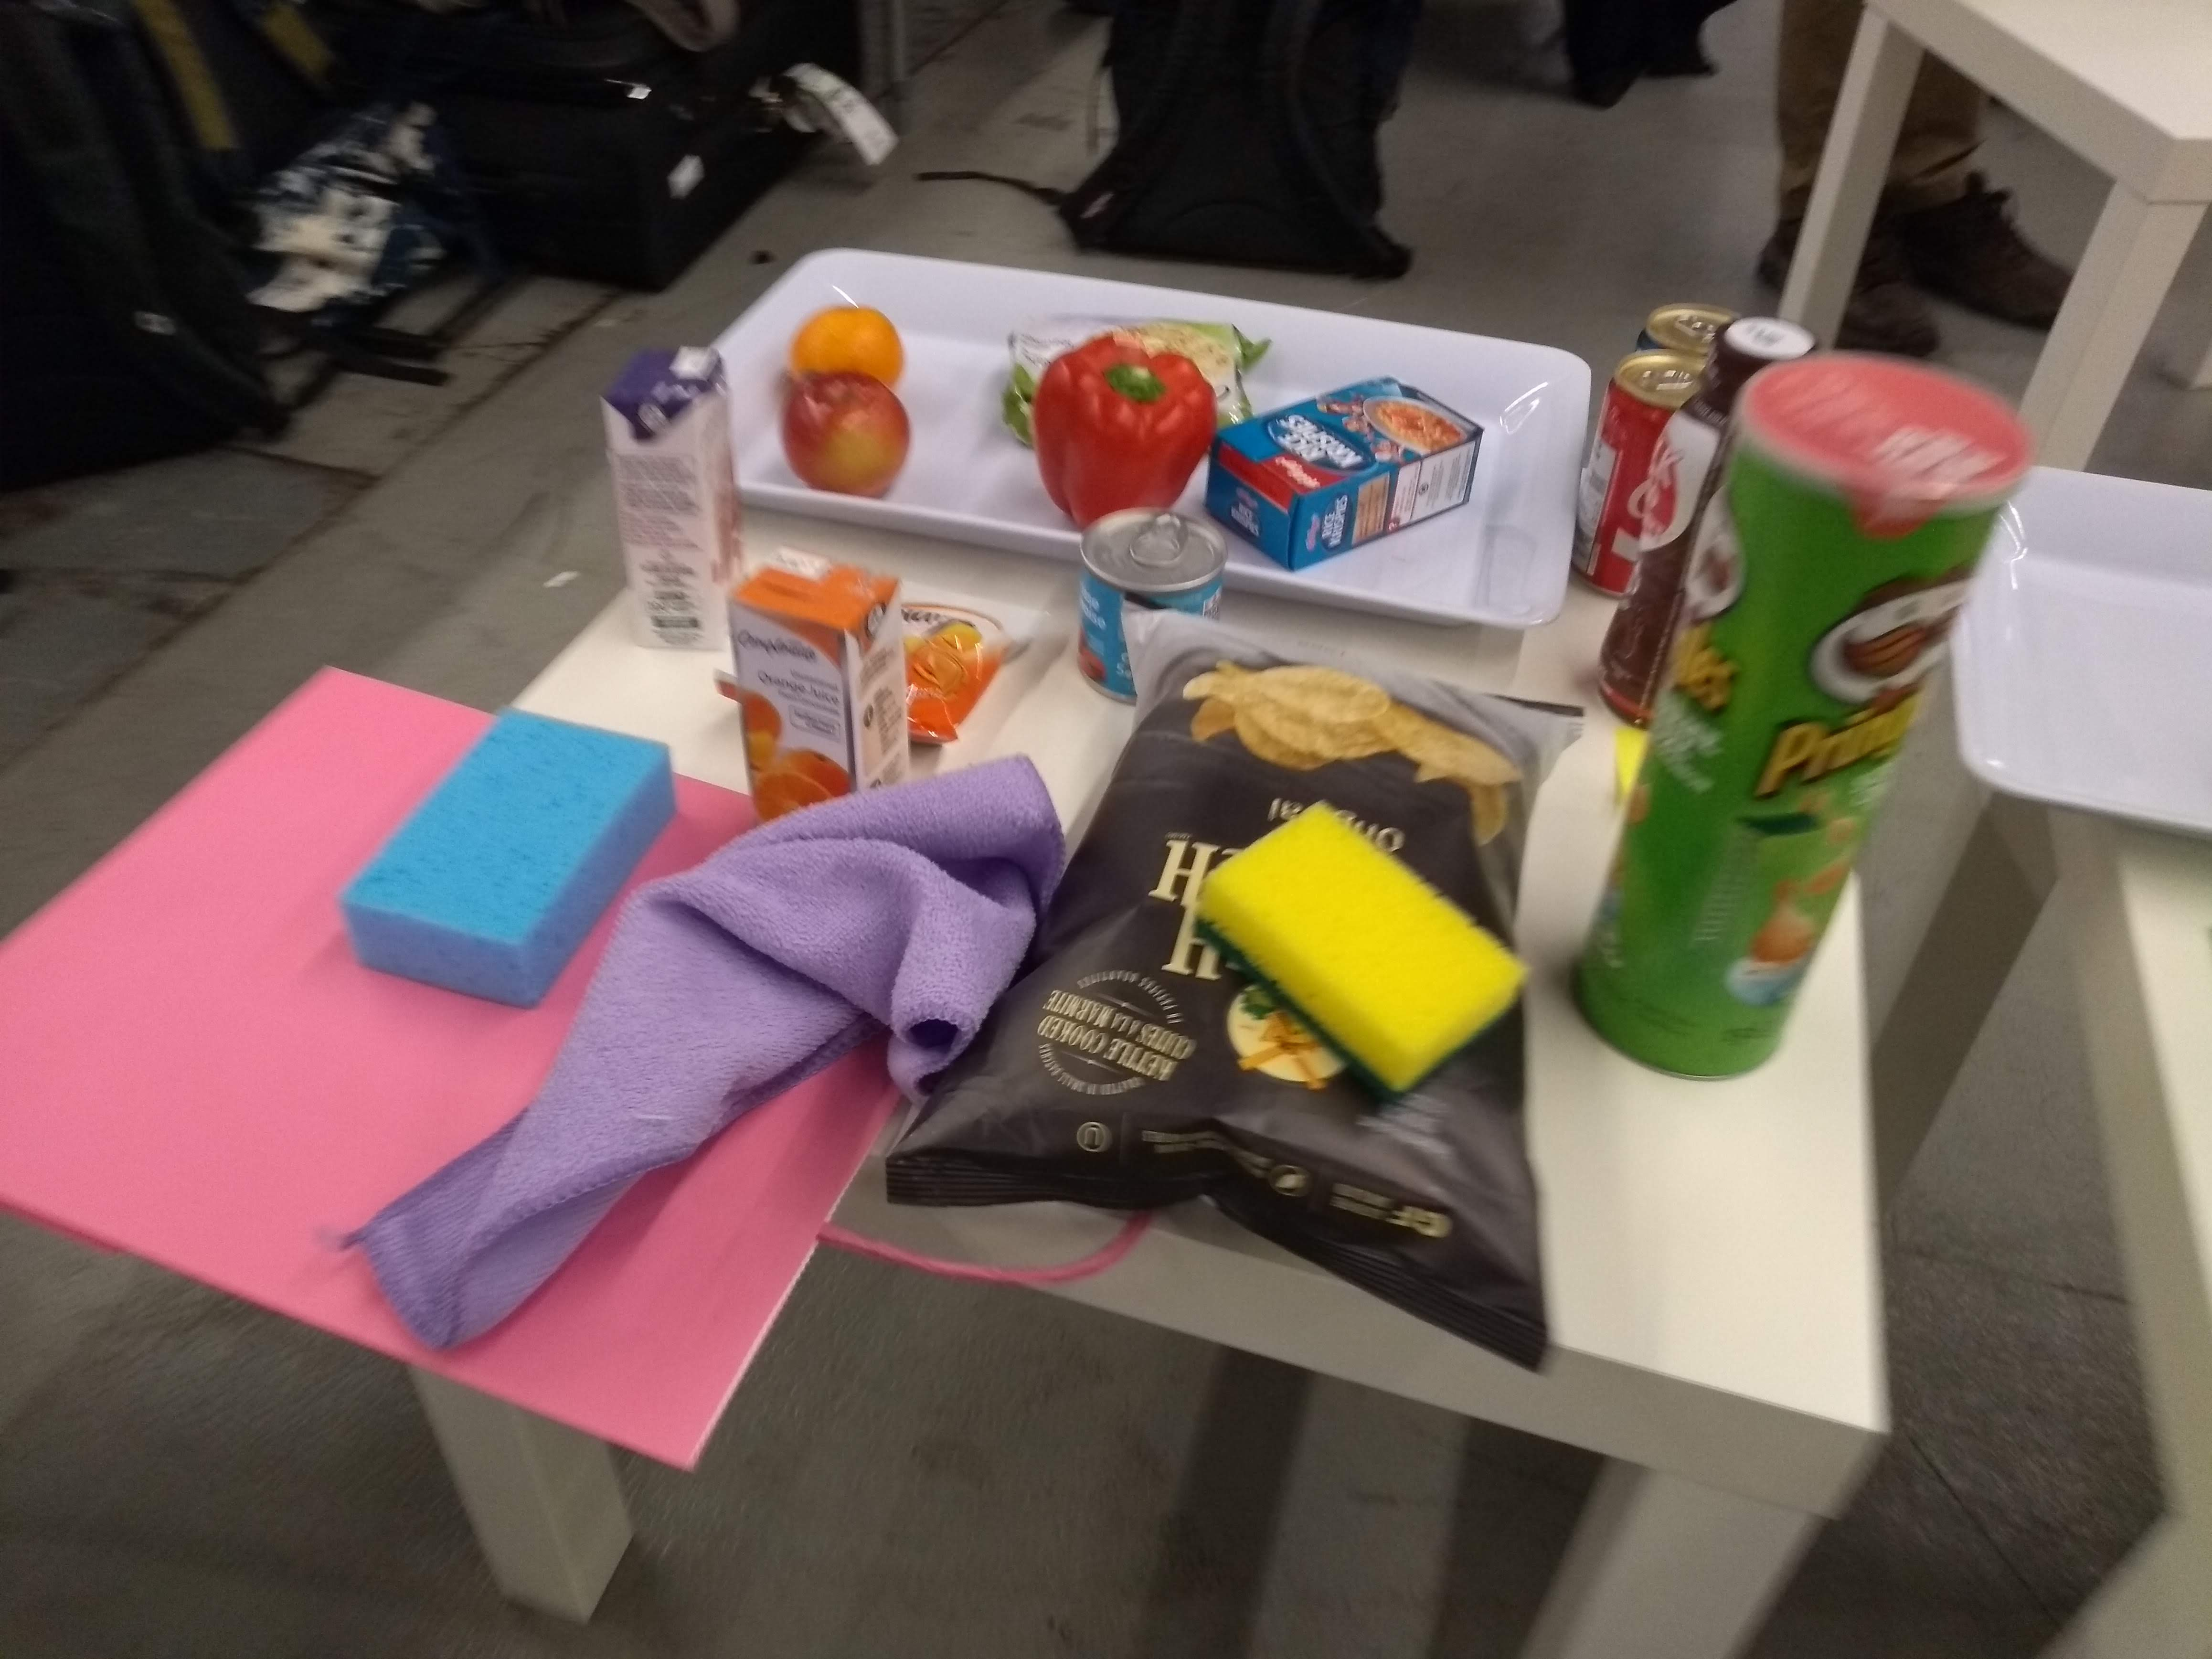apple: (780, 371, 920, 509)
cereal: (1204, 369, 1493, 573)
cloth_opl: (340, 744, 1076, 1368)
grape_juice: (592, 340, 758, 664)
paprika: (1033, 329, 1221, 533)
pringles: (1566, 342, 2043, 1087)
scrubby: (1197, 796, 1545, 1108)
sponge_opl: (333, 697, 690, 1014)
